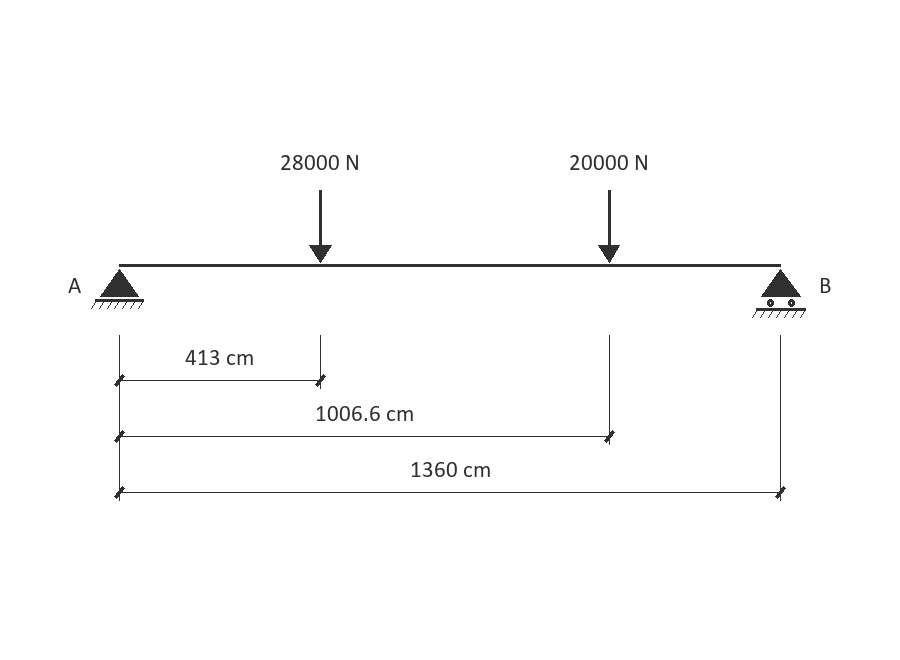pin_support: (91, 269, 144, 309)
point_load: (309, 190, 332, 263), (598, 190, 620, 263)
roller_support: (752, 269, 806, 318)
